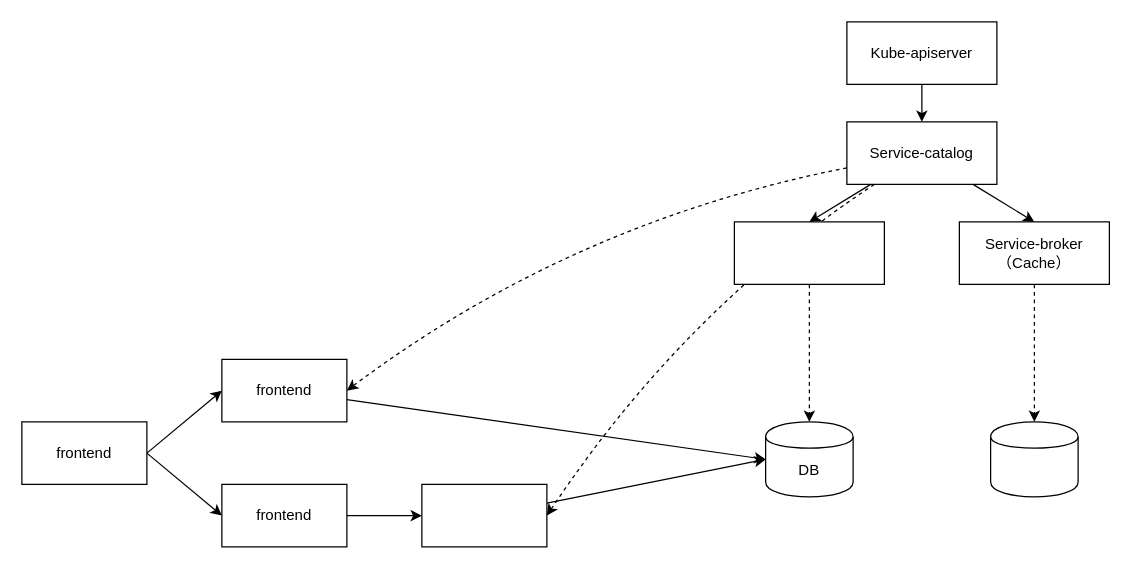
This 1131x569 diagram has some shape labels left out. Each missing label, with the box of its shape:
Cache: (989, 421, 1078, 497)
recommendation: (421, 483, 547, 547)
Service-broker （DB）: (733, 221, 884, 284)
